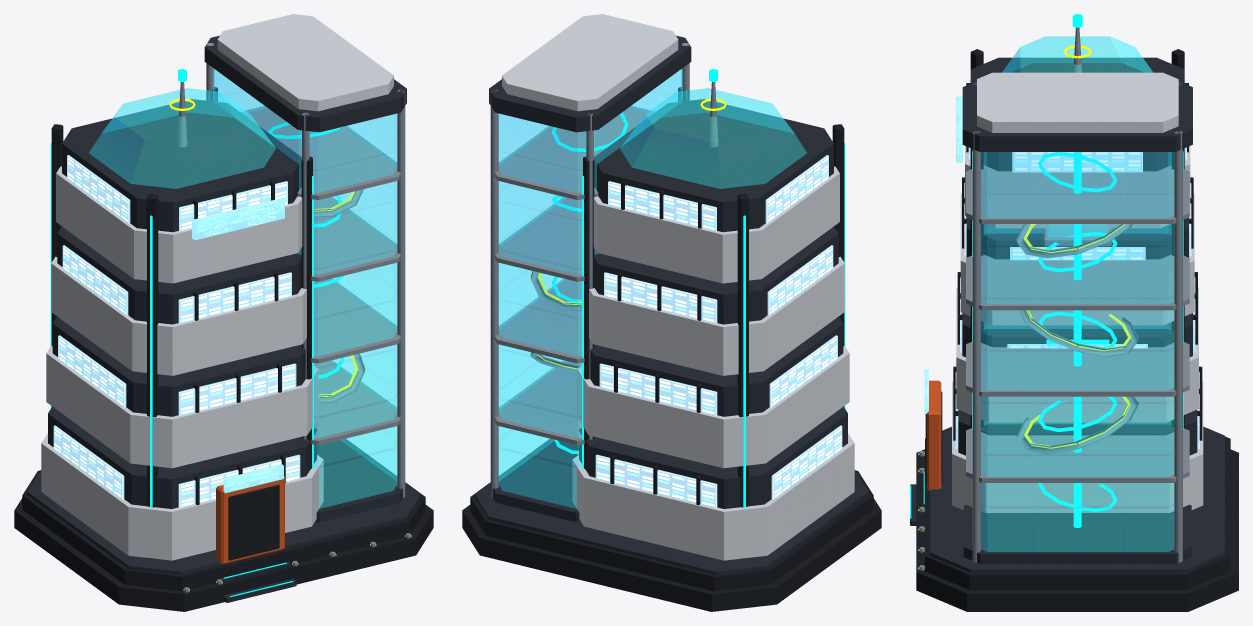
File: bldg_17_winner_01.glb
3 renders of one model, left to right at view 1: azimuth 30°, elevation 25°; view 2: azimuth 150°, elevation 25°; view 3: azimuth 270°, elevation 25°, orthographic. The views are drawn at different scales.
Parts seen in each view (by area): view 1: Bldg17_C02_aero_white, Bldg17_C02_carbon_slate, Bldg17_C02_glass_cyan, Bldg17_C02_gunmetal, Bldg17_C02_steel_machined, Bldg17_C02_window_lit, Bldg17_C02_marquee, Bldg17_C02_led_cyan, Bldg17_C02_accent_orange; view 2: Bldg17_C02_aero_white, Bldg17_C02_carbon_slate, Bldg17_C02_glass_cyan, Bldg17_C02_steel_machined, Bldg17_C02_gunmetal, Bldg17_C02_window_lit, Bldg17_C02_led_cyan; view 3: Bldg17_C02_glass_cyan, Bldg17_C02_steel_machined, Bldg17_C02_carbon_slate, Bldg17_C02_aero_white, Bldg17_C02_gunmetal, Bldg17_C02_led_cyan, Bldg17_C02_window_lit, Bldg17_C02_accent_orange, Bldg17_C02_led_amber, Bldg17_C02_marquee.
Part boxes in pixels (<box>): Bldg17_C02_aero_white: <box>41,14,393,560</box>; Bldg17_C02_carbon_slate: <box>27,35,420,602</box>; Bldg17_C02_glass_cyan: <box>89,68,397,508</box>; Bldg17_C02_gunmetal: <box>14,87,433,611</box>; Bldg17_C02_steel_machined: <box>177,43,410,592</box>; Bldg17_C02_window_lit: <box>53,155,300,507</box>; Bldg17_C02_marquee: <box>192,198,284,493</box>; Bldg17_C02_led_cyan: <box>50,69,343,596</box>; Bldg17_C02_accent_orange: <box>216,476,284,564</box>; Bldg17_C02_aero_white: <box>502,14,854,560</box>; Bldg17_C02_carbon_slate: <box>475,35,868,574</box>; Bldg17_C02_glass_cyan: <box>498,68,806,508</box>; Bldg17_C02_steel_machined: <box>490,43,718,497</box>; Bldg17_C02_gunmetal: <box>462,87,881,611</box>; Bldg17_C02_window_lit: <box>595,155,842,507</box>; Bldg17_C02_led_cyan: <box>552,69,845,507</box>; Bldg17_C02_glass_cyan: <box>972,36,1173,551</box>; Bldg17_C02_steel_machined: <box>919,27,1189,570</box>; Bldg17_C02_carbon_slate: <box>910,57,1224,572</box>; Bldg17_C02_aero_white: <box>952,72,1203,512</box>; Bldg17_C02_gunmetal: <box>916,49,1238,611</box>; Bldg17_C02_led_cyan: <box>910,14,1183,527</box>; Bldg17_C02_window_lit: <box>955,79,1199,448</box>; Bldg17_C02_accent_orange: <box>926,380,941,490</box>; Bldg17_C02_led_amber: <box>918,45,1130,569</box>; Bldg17_C02_marquee: <box>924,96,962,413</box>.
Size of the model in its own units: 12.5 by 17.72 by 10.71.
Materials: 10 (10 with a texture image).
